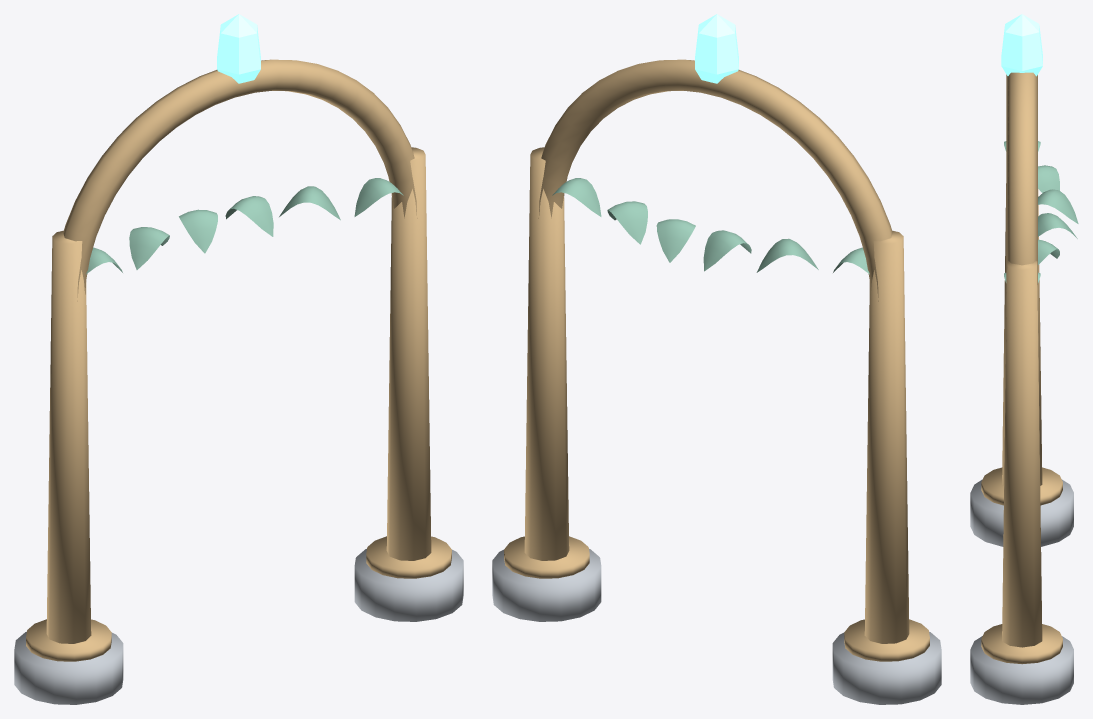
File: arc_arched_trellis.glb
3 views of the same model, side by side, from view 1: azimuth 30°, elevation 25°; view 2: azimuth 150°, elevation 25°; view 3: azimuth 270°, elevation 25° (orthographic). The views are drawn at different scales.
Visible parts, largest first — view 1: ARC_arched_trellis_post_0, ARC_arched_trellis_half_round, ARC_arched_trellis_post_1, ARC_arched_trellis_foot_0, ARC_arched_trellis_foot_1, ARC_arched_trellis_crest, ARC_arched_trellis_gold_base_0, ARC_arched_trellis_gold_base_1, ARC_arched_trellis_vine_1, ARC_arched_trellis_vine_2, ARC_arched_trellis_vine_3, ARC_arched_trellis_vine_5 (+1 smaller); view 2: ARC_arched_trellis_post_0, ARC_arched_trellis_half_round, ARC_arched_trellis_post_1, ARC_arched_trellis_foot_0, ARC_arched_trellis_foot_1, ARC_arched_trellis_crest, ARC_arched_trellis_gold_base_0, ARC_arched_trellis_gold_base_1, ARC_arched_trellis_vine_4, ARC_arched_trellis_vine_3, ARC_arched_trellis_vine_2, ARC_arched_trellis_vine_5 (+1 smaller); view 3: ARC_arched_trellis_post_1, ARC_arched_trellis_half_round, ARC_arched_trellis_foot_1, ARC_arched_trellis_foot_0, ARC_arched_trellis_crest, ARC_arched_trellis_gold_base_1, ARC_arched_trellis_post_0, ARC_arched_trellis_gold_base_0, ARC_arched_trellis_vine_2, ARC_arched_trellis_vine_1, ARC_arched_trellis_vine_3, ARC_arched_trellis_vine_4.
Boxes of the visible parts, x1,y1,x2,y2 form: ARC_arched_trellis_post_0: (46, 230, 91, 643); ARC_arched_trellis_half_round: (63, 59, 417, 301); ARC_arched_trellis_post_1: (386, 147, 431, 560); ARC_arched_trellis_foot_0: (14, 631, 123, 704); ARC_arched_trellis_foot_1: (354, 549, 463, 621); ARC_arched_trellis_crest: (217, 14, 260, 83); ARC_arched_trellis_gold_base_0: (26, 619, 111, 661); ARC_arched_trellis_gold_base_1: (366, 536, 451, 578); ARC_arched_trellis_vine_1: (129, 227, 169, 269); ARC_arched_trellis_vine_2: (179, 209, 217, 253); ARC_arched_trellis_vine_3: (225, 196, 273, 236); ARC_arched_trellis_vine_5: (354, 178, 403, 216); ARC_arched_trellis_post_0: (864, 230, 909, 643); ARC_arched_trellis_half_round: (538, 59, 892, 301); ARC_arched_trellis_post_1: (524, 147, 569, 560); ARC_arched_trellis_foot_0: (832, 631, 941, 704); ARC_arched_trellis_foot_1: (492, 549, 601, 621); ARC_arched_trellis_crest: (695, 14, 738, 83); ARC_arched_trellis_gold_base_0: (844, 619, 929, 661); ARC_arched_trellis_gold_base_1: (504, 536, 589, 578); ARC_arched_trellis_vine_4: (607, 201, 647, 244); ARC_arched_trellis_vine_3: (656, 219, 695, 262); ARC_arched_trellis_vine_2: (703, 230, 751, 271); ARC_arched_trellis_vine_5: (552, 178, 601, 216); ARC_arched_trellis_post_1: (1002, 261, 1042, 647); ARC_arched_trellis_half_round: (1006, 72, 1037, 316); ARC_arched_trellis_foot_1: (970, 636, 1073, 704); ARC_arched_trellis_foot_0: (970, 479, 1073, 546); ARC_arched_trellis_crest: (1001, 14, 1042, 76); ARC_arched_trellis_gold_base_1: (981, 624, 1062, 664); ARC_arched_trellis_post_0: (1002, 183, 1042, 485); ARC_arched_trellis_gold_base_0: (981, 467, 1062, 505); ARC_arched_trellis_vine_2: (1038, 189, 1078, 223); ARC_arched_trellis_vine_1: (1038, 165, 1059, 192); ARC_arched_trellis_vine_3: (1038, 213, 1077, 238); ARC_arched_trellis_vine_4: (1038, 239, 1059, 264).
Size of the model in its own units: 2.56 by 3.52 by 0.5847.
